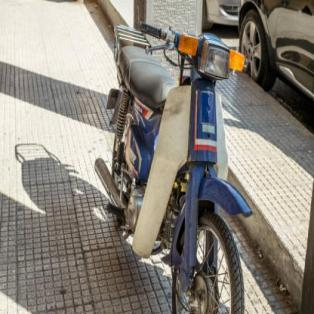Motocicleta: (105, 0, 254, 313)
